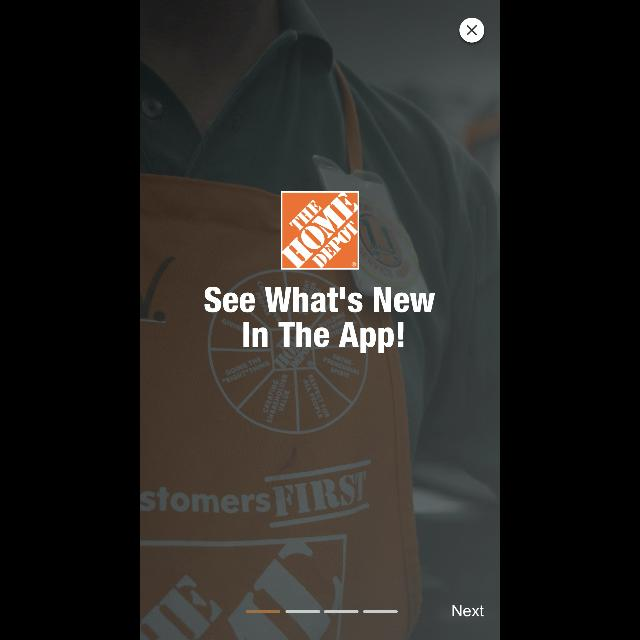backgroundimage: (140, 1, 500, 640)
icon: (460, 18, 484, 42)
image: (281, 192, 359, 270)
pageindicator: (247, 610, 398, 612)
text: (205, 287, 435, 353), (452, 604, 483, 616)
